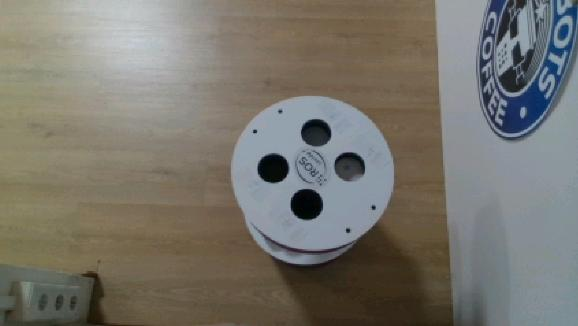hole: (289, 186, 326, 221), (332, 149, 368, 183), (256, 151, 290, 185), (299, 115, 333, 149)
